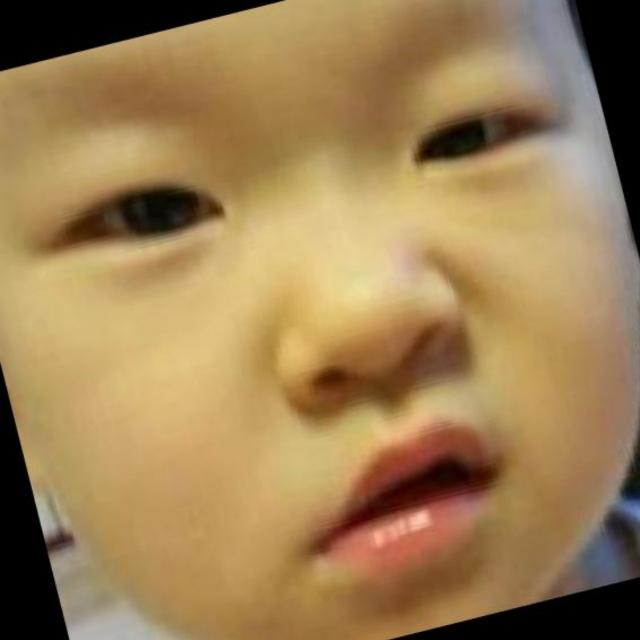Disgust: (40, 29, 611, 631)
